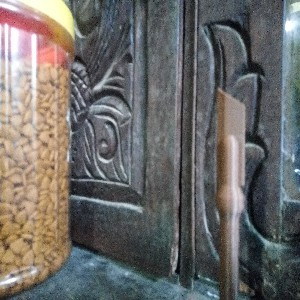cutter: (215, 84, 247, 300)
